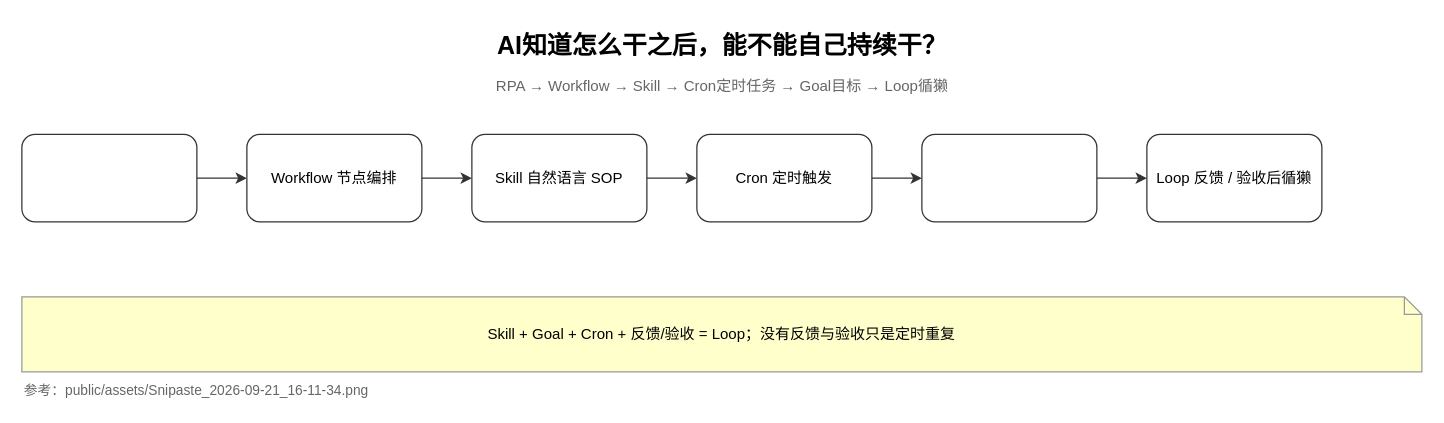
Image size: 1444x423. Some labels were removed from this diagram. The shapes that lost their labels are listed below. From the top down, each one's centre as x and y in pixels, then its label:
At point 109,177: "RPA 固定步骤".
At point 1009,177: "Goal 持续目标".
